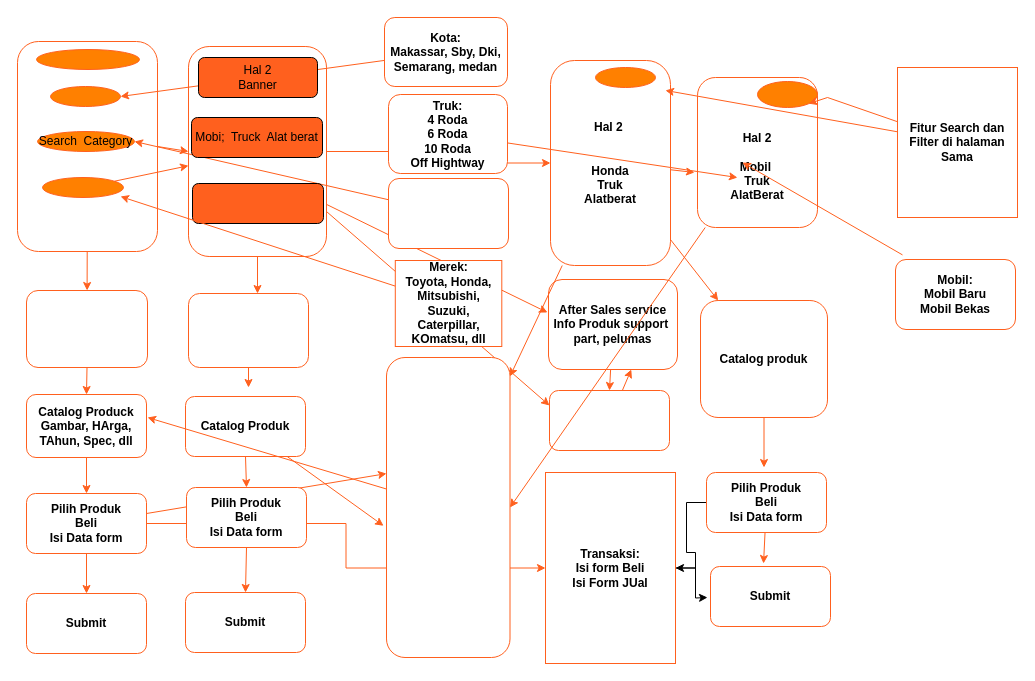
Some shapes in this 1035 by 681 pixel diagram are drawn without their labels. The centre of each missing label's shape, as x and y in pixels:
AutoHeavy- Hal 1: the point at 88,59
Category: Mobil,Truk, AlatBerat: the point at 448,213
Filter by: the point at 787,94
Info Promo Info Lain: the point at 609,420
Info terkait Relevan: the point at 258,203
login daftar email / phone OTP: the point at 448,507
Makassar Alat berat Komatsu: the point at 87,329
Merek List gambar produk: the point at 248,330
Search: the point at 625,77
Search Kota: the point at 85,96
Search Merek: the point at 83,187
